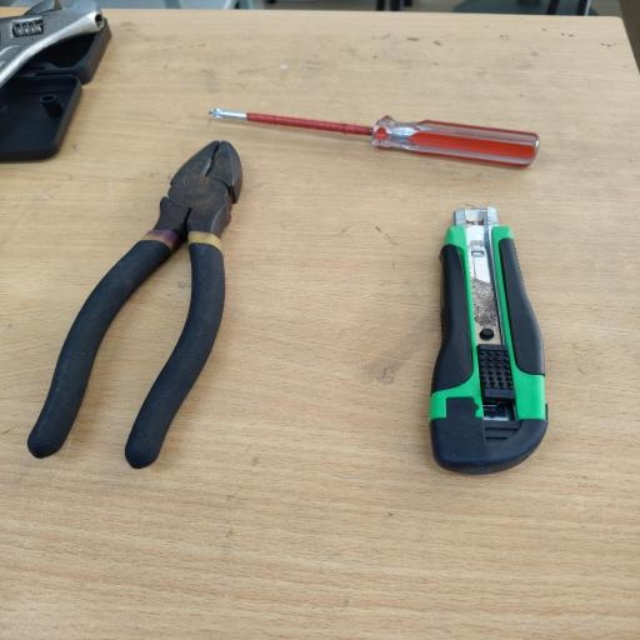screwdriver: (208, 105, 544, 175)
